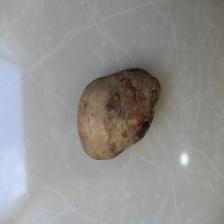Diseased-fungal potato: (76, 68, 162, 161)
